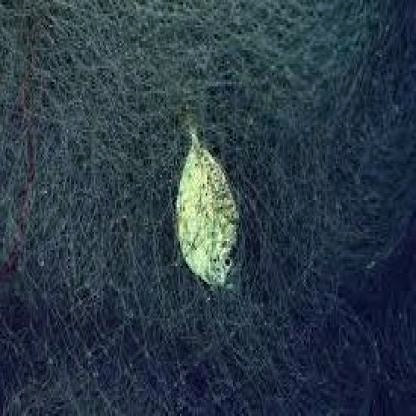net: (5, 5, 408, 409)
